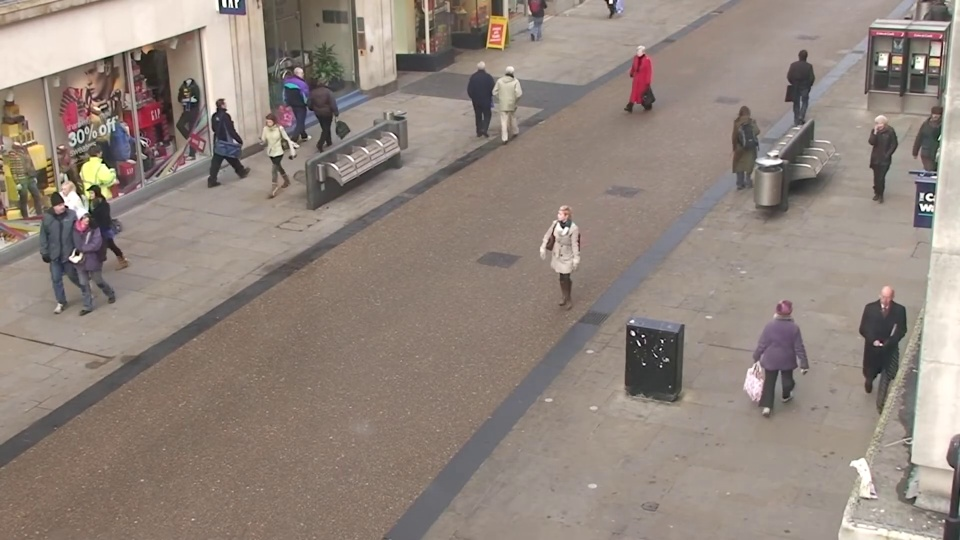pedestrian: (854, 282, 911, 423), (762, 284, 813, 424), (32, 193, 87, 307), (57, 204, 110, 321), (37, 177, 89, 287), (65, 182, 115, 292), (540, 207, 579, 328), (907, 102, 954, 199), (86, 135, 130, 234), (856, 115, 897, 213), (249, 112, 285, 205), (214, 90, 249, 177), (730, 100, 763, 192), (787, 46, 818, 125), (313, 70, 343, 151), (287, 60, 317, 139), (501, 60, 529, 141), (472, 57, 500, 136), (620, 44, 646, 120)
